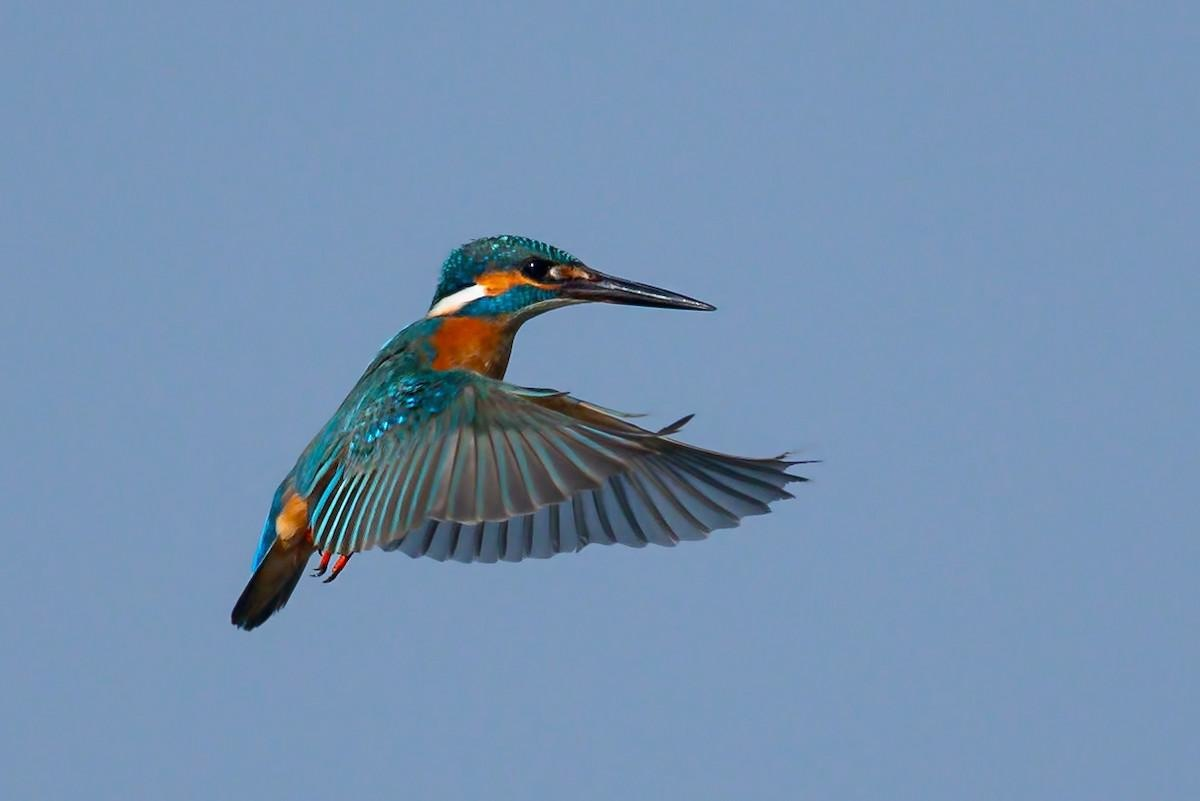kingfisher: (233, 200, 802, 658)
